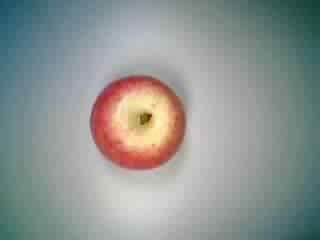apple: (86, 71, 190, 175)
